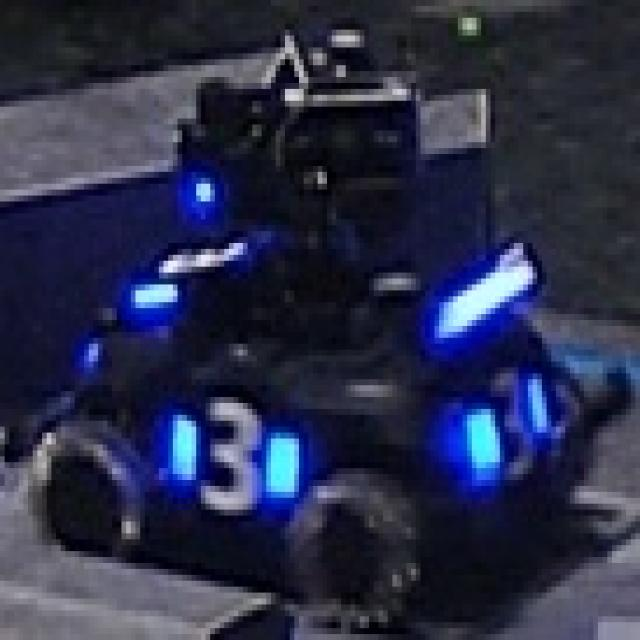B3: (168, 397, 299, 510), (462, 362, 552, 474)
